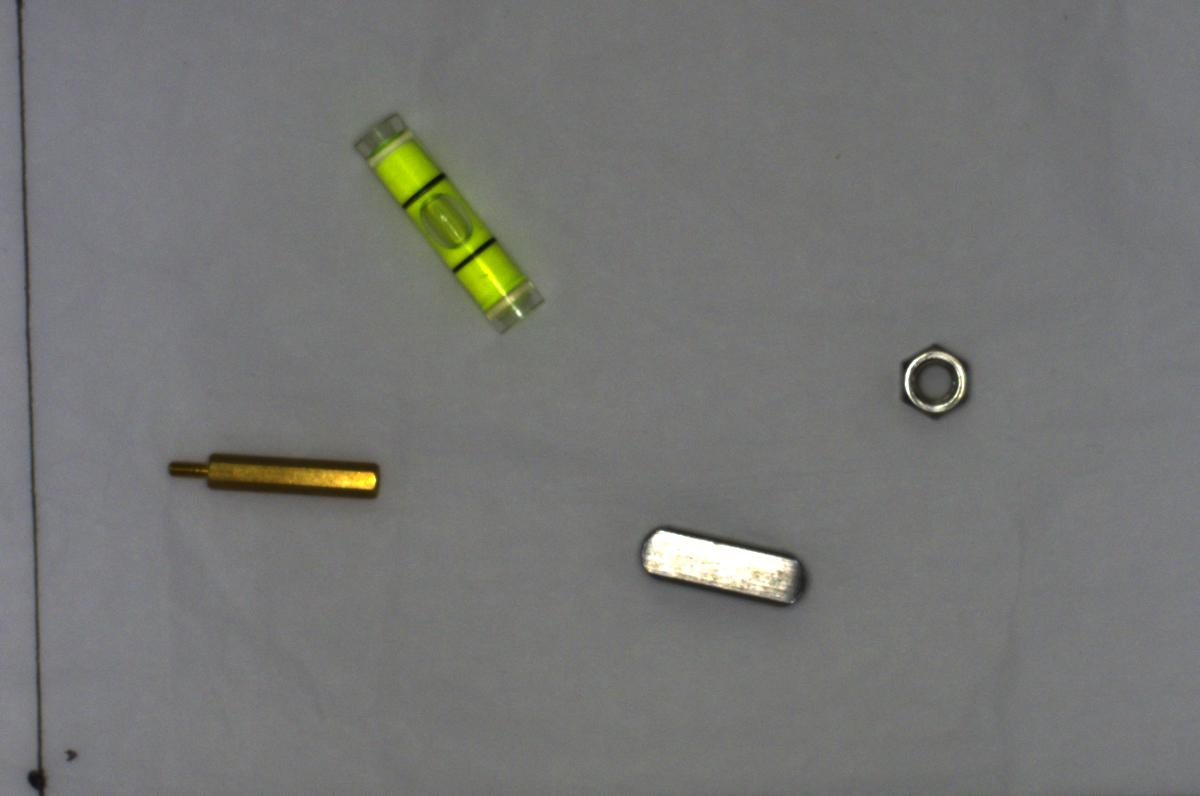Hexagon nut: (891, 336, 980, 426)
Hexagon pillar: (148, 440, 388, 510)
Horizontal bubble: (348, 101, 550, 340)
